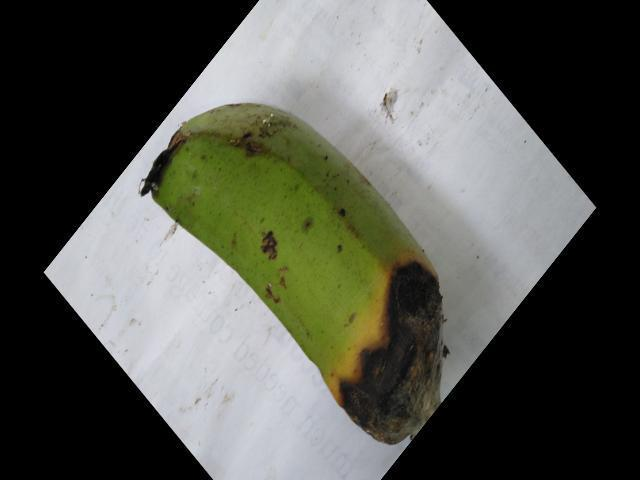rotten: (302, 254, 448, 454)
unripe: (137, 87, 376, 343)
